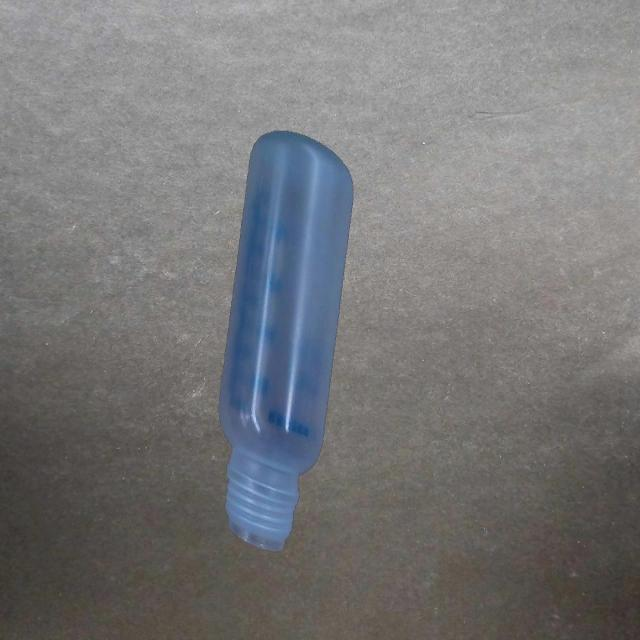bottle: (217, 122, 357, 556)
